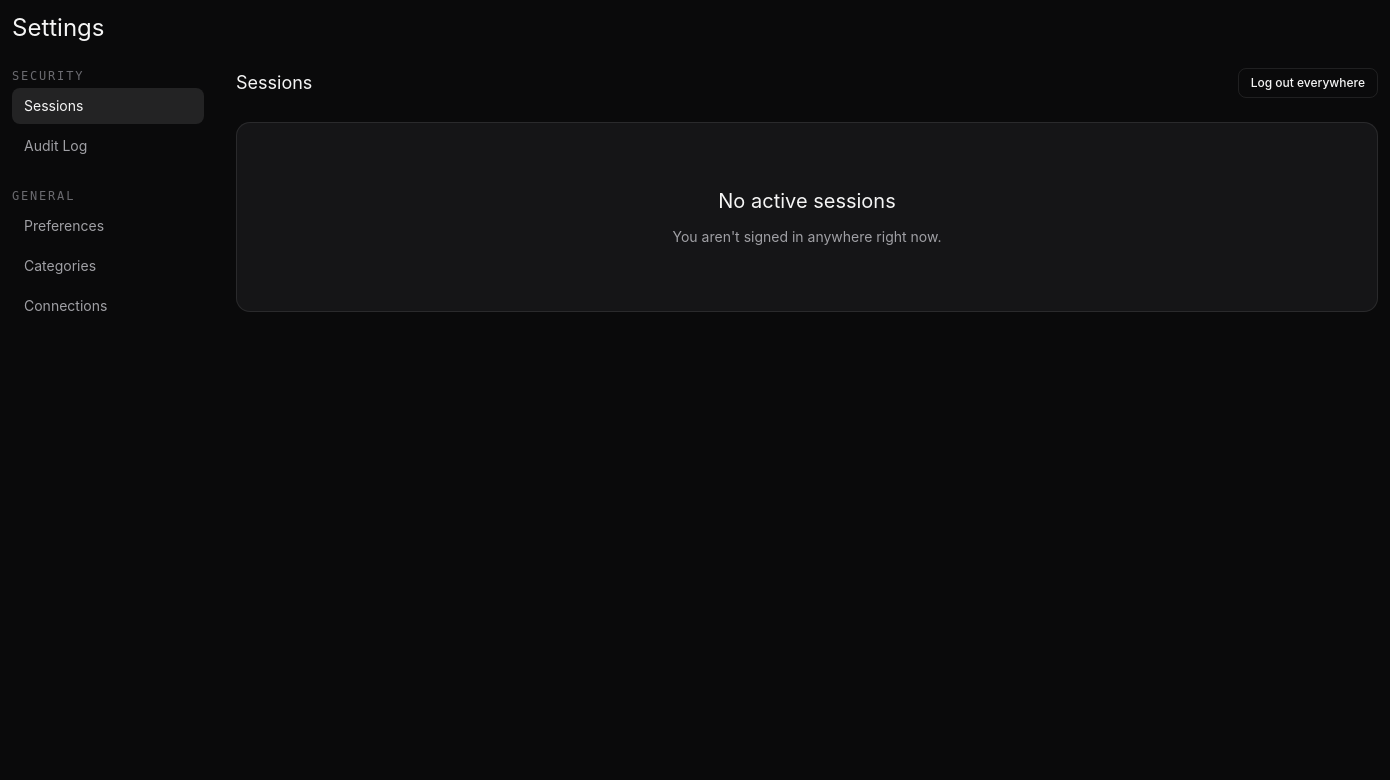
Scenario: SettingsScreen with bank sync › renders the connections panel when selected
Click the button "Connections": x=108, y=306 x1=12 y1=288 x2=204 y2=324
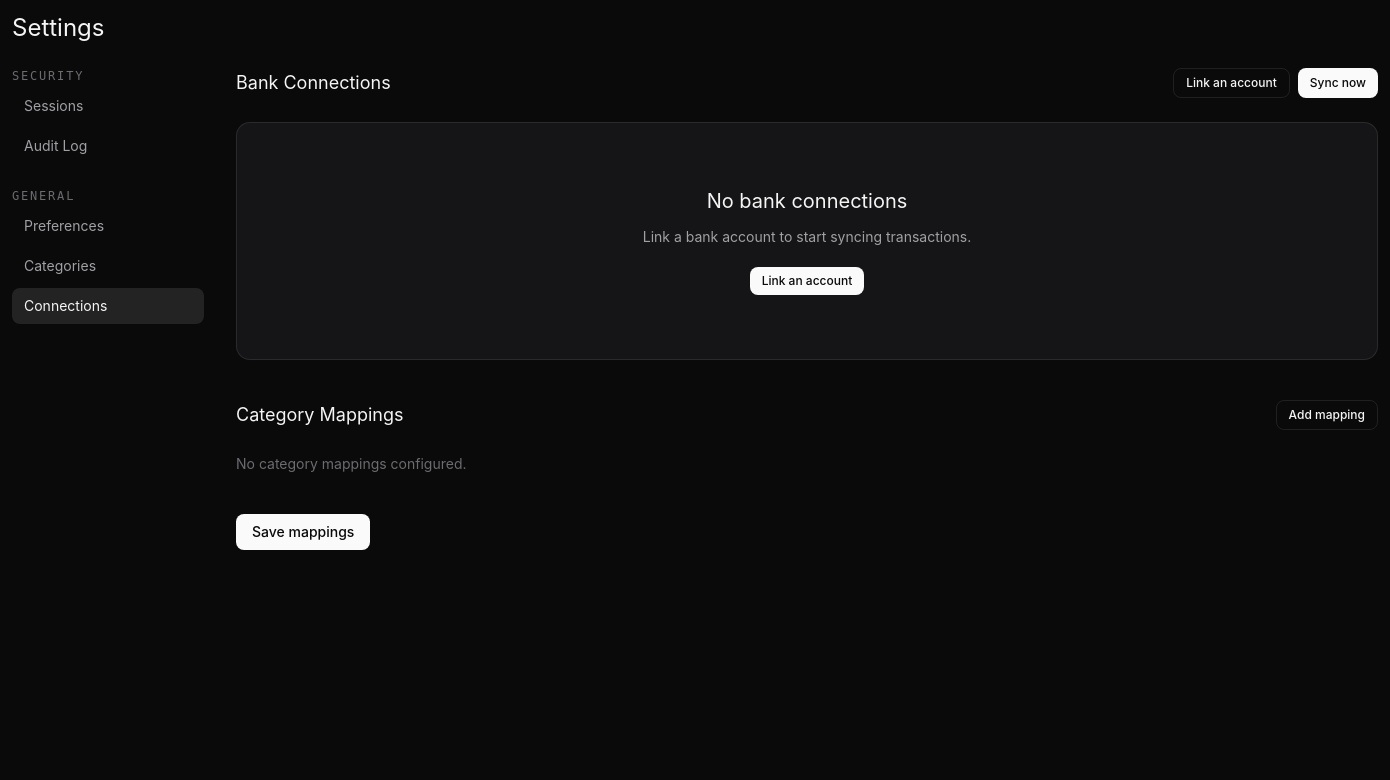
Check: the button "Sync now" is shown, box x1=1298 y1=68 x2=1378 y2=98
